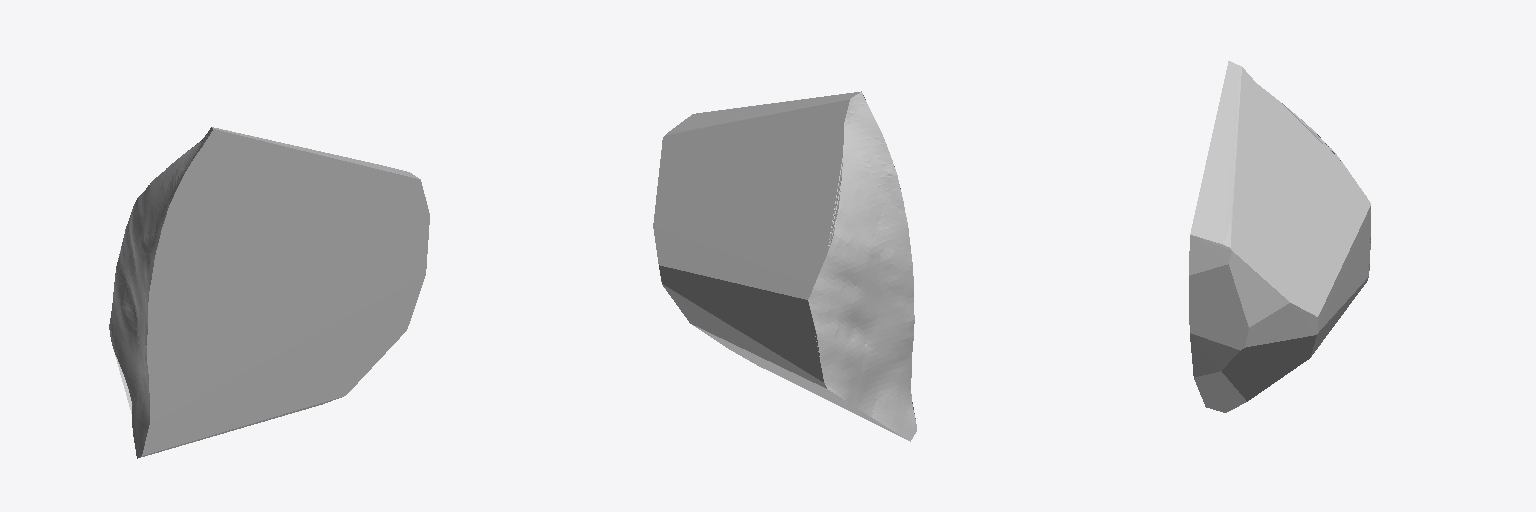
The model's file is low_cell_095.obj.
The picture shows the model from 3 angles: view 1: azimuth 30°, elevation 25°; view 2: azimuth 150°, elevation 25°; view 3: azimuth 270°, elevation 25°; orthographic projection.
Visible parts, largest first — view 1: low_cell.095_low_cell.094; view 2: low_cell.095_low_cell.094; view 3: low_cell.095_low_cell.094.
Part boxes in pixels (left/top/right/bottom): low_cell.095_low_cell.094: left=109, top=127, right=429, bottom=458; low_cell.095_low_cell.094: left=653, top=91, right=916, bottom=441; low_cell.095_low_cell.094: left=1189, top=61, right=1370, bottom=412.
Size of the model in its own units: 0.9998 by 1.18 by 0.6008.